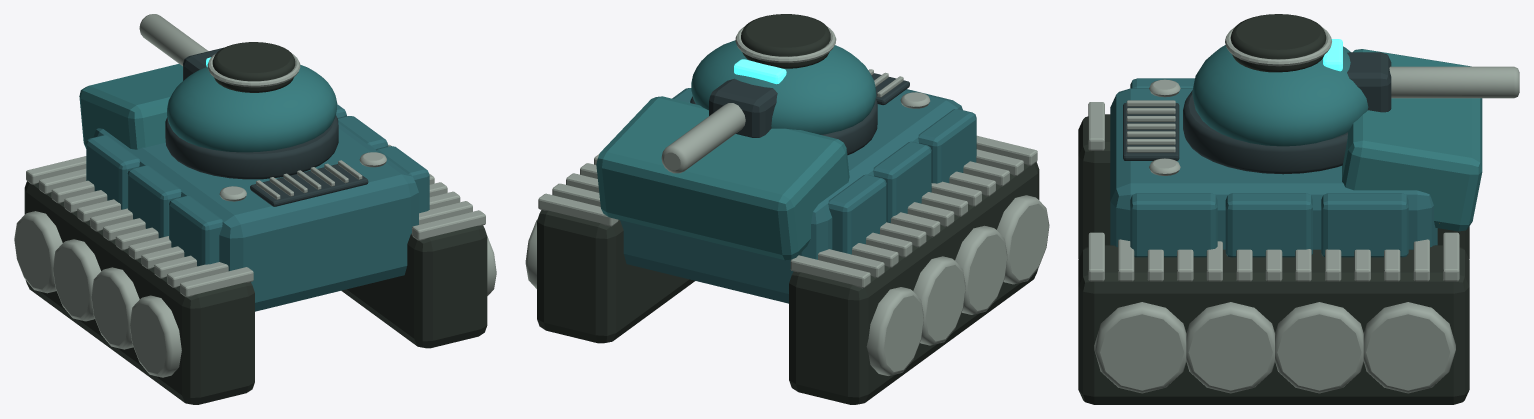
File: battlecity-tank.glb
3 views of the same model, side by side, from view 1: azimuth 30°, elevation 25°; view 2: azimuth 150°, elevation 25°; view 3: azimuth 270°, elevation 25° (orthographic). The views are drawn at different scales.
Visible parts, largest first — view 1: DX teal armour, Track rubber, Brushed steel, DX cyan armour, DX dark machinery, Brushed steel Cannon recoil; view 2: DX cyan armour, Track rubber, Brushed steel, DX teal armour, DX dark machinery, Brushed steel Cannon recoil, Command glow; view 3: Brushed steel, Track rubber, DX teal armour, DX cyan armour, DX dark machinery, Brushed steel Cannon recoil, Command glow.
Boxes of the visible parts, x1,y1,x2,y2 form: DX teal armour: [86, 104, 429, 311]; Track rubber: [24, 42, 487, 404]; Brushed steel: [14, 53, 496, 377]; DX cyan armour: [79, 64, 337, 152]; DX dark machinery: [165, 47, 368, 206]; Brushed steel Cannon recoil: [139, 14, 208, 66]; DX cyan armour: [596, 40, 876, 260]; Track rubber: [537, 14, 1039, 404]; Brushed steel: [525, 26, 1049, 375]; DX teal armour: [620, 88, 976, 303]; DX dark machinery: [690, 73, 909, 155]; Brushed steel Cannon recoil: [661, 103, 745, 173]; Command glow: [734, 59, 786, 84]; Brushed steel: [1088, 27, 1459, 393]; Track rubber: [1078, 14, 1469, 404]; DX teal armour: [1110, 78, 1437, 257]; DX cyan armour: [1192, 45, 1482, 231]; DX dark machinery: [1123, 52, 1391, 174]; Brushed steel Cannon recoil: [1389, 66, 1519, 98]; Command glow: [1323, 39, 1342, 71].
Bounding box in the file's own units: 0.6755 × 0.4987 × 0.679.
